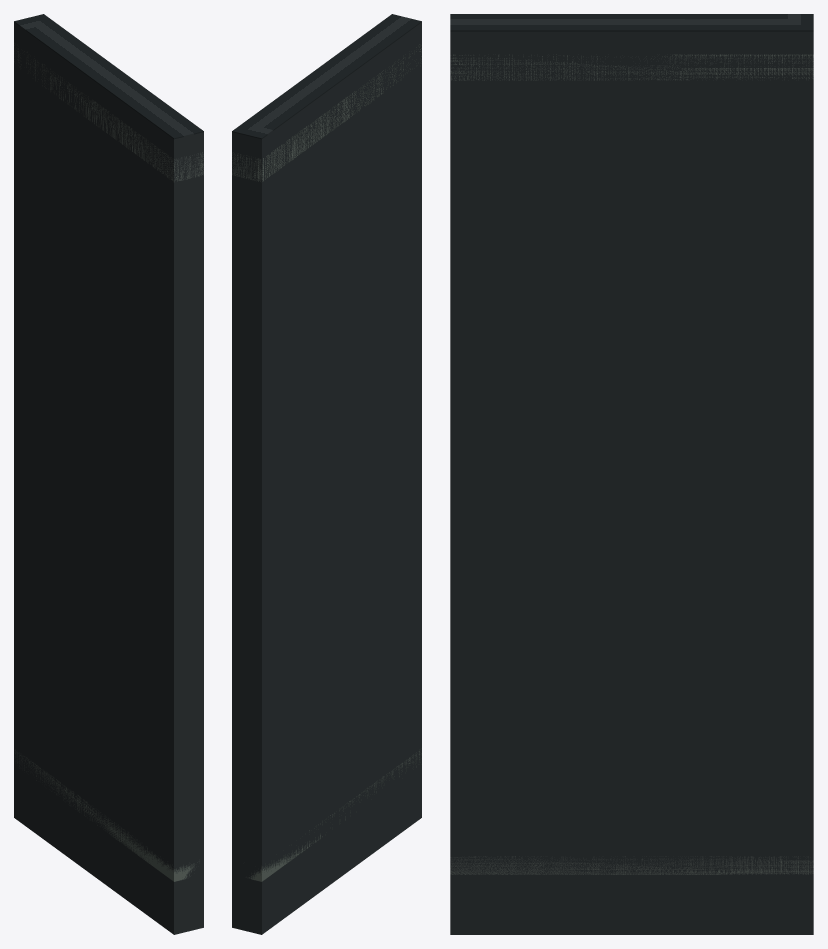
File: CMU3DInteriorVehicleTankFront3.glb
3 renders of one model, left to right at view 1: azimuth 30°, elevation 25°; view 2: azimuth 150°, elevation 25°; view 3: azimuth 270°, elevation 25°, orthographic. The views are drawn at different scales.
Visible parts, largest first — view 1: cabin bulkhead, cabin bulkhead source finish, upper armor trim, lower armor trim; view 2: cabin bulkhead, cabin bulkhead source finish, upper armor trim, lower armor trim; view 3: cabin bulkhead, cabin bulkhead source finish, lower armor trim, upper armor trim.
Boxes of the visible parts, x1,y1,x2,y2 form: cabin bulkhead: [14, 22, 203, 934]; cabin bulkhead source finish: [14, 14, 203, 139]; upper armor trim: [14, 43, 203, 181]; lower armor trim: [15, 749, 199, 881]; cabin bulkhead: [232, 22, 421, 934]; cabin bulkhead source finish: [232, 14, 421, 139]; upper armor trim: [232, 44, 421, 181]; lower armor trim: [246, 751, 421, 881]; cabin bulkhead: [450, 31, 813, 934]; cabin bulkhead source finish: [450, 14, 813, 31]; lower armor trim: [450, 856, 813, 874]; upper armor trim: [450, 54, 813, 80].
Size of the model in its own units: 0.0938 by 2.4 by 0.875.
Materials: 4 (1 with a texture image).
